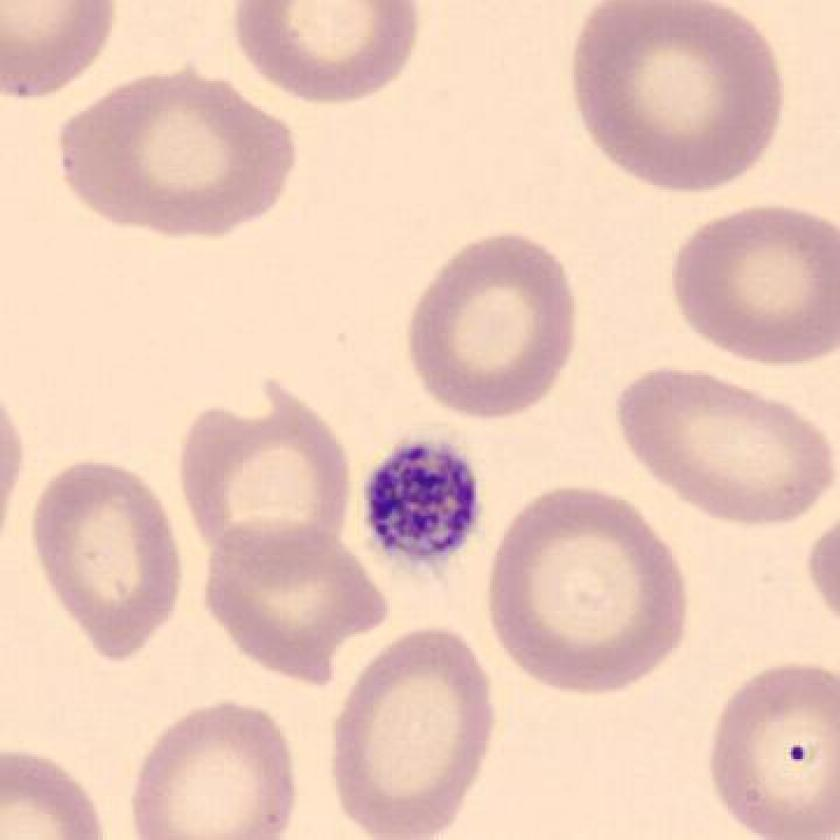platelets: (354, 434, 494, 577)
